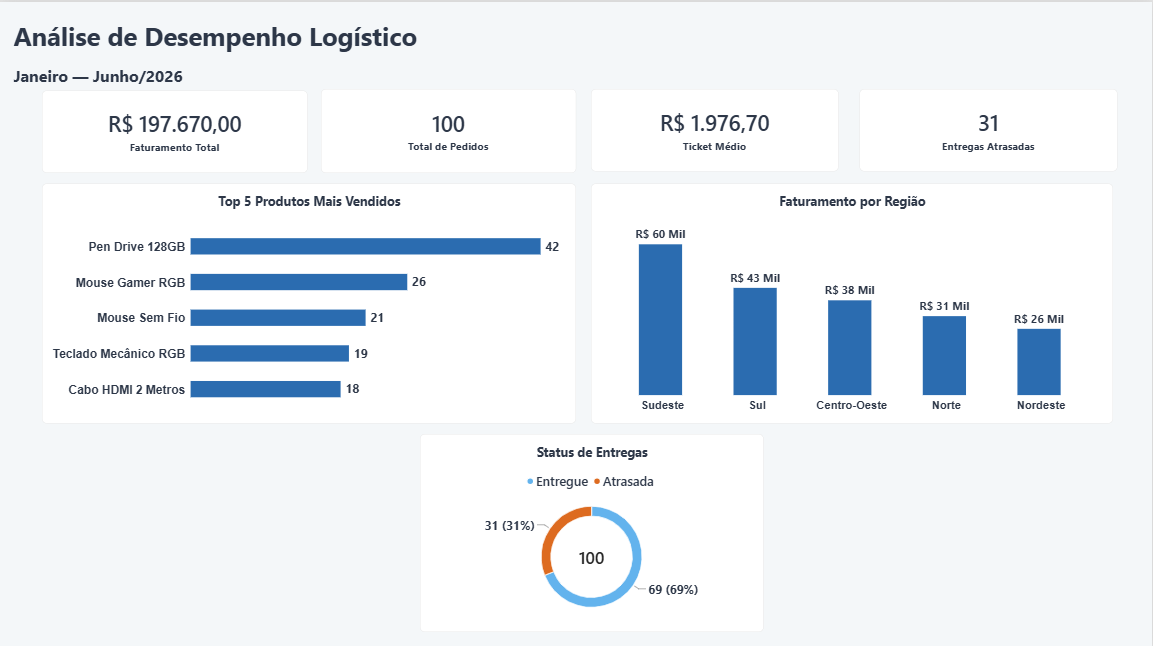

This screenshot's page, from the dashboard's own definition file:
{"tool":"powerbi","page":{"name":"logística_dashboard","canvas":[1920,1080],"ordinal":0},"visuals":[{"type":"card","fields":{"Values":["Sum(PEDIDOS.valor_total)"]},"box":[70,147.5,442.5,137.5],"z":0},{"type":"card","fields":{"Values":["Count(PEDIDOS.pedido_id)"]},"box":[535,145,425,140],"z":1000},{"type":"card","fields":{"Values":["PEDIDOS.TicketMedioPedidos"]},"box":[985,145,412.5,137.5],"z":2000},{"type":"card","fields":{"Values":["ENTREGAS.Entregas Atrasadas"]},"box":[1432.5,145,430,137.5],"z":3000},{"type":"clusteredBarChart","title":"Top 5 Produtos Mais Vendidos","fields":{"Category":["PRODUTOS.produto_nome"],"Y":["PRODUTOS.Top 5 Produtos"]},"box":[70,302.5,890,400],"z":4000},{"type":"clusteredColumnChart","title":"Faturamento por Região","fields":{"Category":["CLIENTES.regiao"],"Y":["Sum(PEDIDOS.valor_total)"]},"box":[985,302.5,870,400],"z":5000},{"type":"donutChart","title":"Status de Entregas","fields":{"Category":["ENTREGAS.status_entrega"],"Y":["Count(PEDIDOS.pedido_id)"]},"box":[700,720,572.5,330],"z":6000},{"type":"textbox","box":[22.5,27.5,692.5,77.5],"z":7000},{"type":"textbox","box":[22.5,105,672.5,65],"z":8000}]}

Visuals, with their boxes in screenshot pixels (x1, y1, x2, y2), scaled from the page's 1920x1080 canvas onto the 1153x646 screenshot:
card - Sum(PEDIDOS.valor_total): [x1=42, y1=88, x2=308, y2=170]
card - Count(PEDIDOS.pedido_id): [x1=321, y1=87, x2=576, y2=170]
card - PEDIDOS.TicketMedioPedidos: [x1=592, y1=87, x2=839, y2=169]
card - ENTREGAS.Entregas Atrasadas: [x1=860, y1=87, x2=1118, y2=169]
"Top 5 Produtos Mais Vendidos" clusteredBarChart: [x1=42, y1=181, x2=576, y2=420]
"Faturamento por Região" clusteredColumnChart: [x1=592, y1=181, x2=1114, y2=420]
"Status de Entregas" donutChart: [x1=420, y1=431, x2=764, y2=628]
textbox: [x1=14, y1=16, x2=429, y2=63]
textbox: [x1=14, y1=63, x2=417, y2=102]
